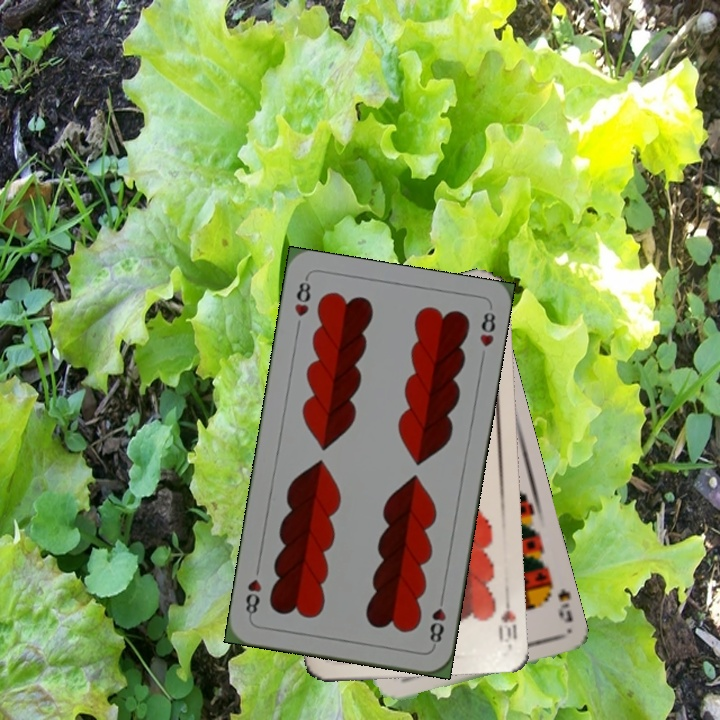H10: (494, 589, 520, 648)
H8: (425, 591, 449, 650), (290, 274, 313, 319)
S9: (540, 574, 575, 625)
